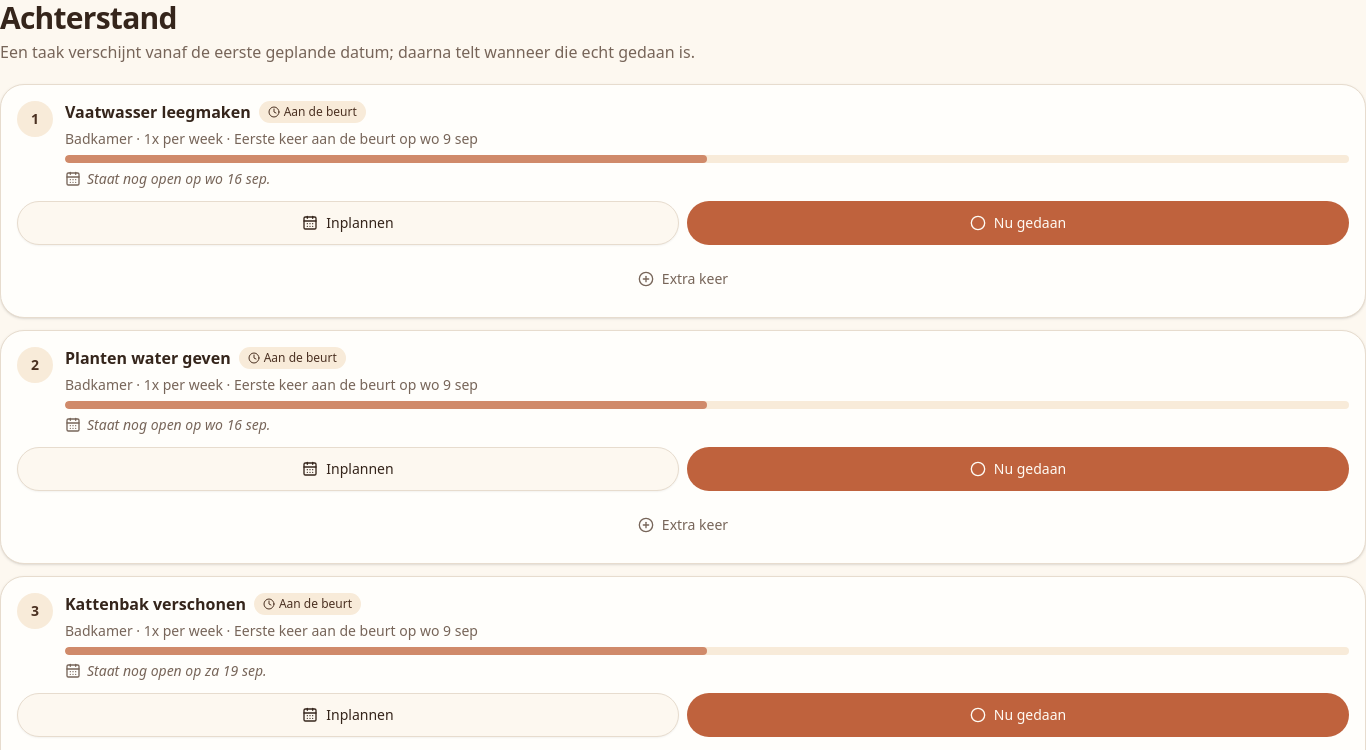
Test case: DuePage › "Nu gedaan" for work that is planned today for someone else › checks it off on behalf of the assignee, who then receives the points
The width and height of the screenshot is (1366, 750).
What coordinates should you click on to do the following:
click the button with aria-label "Vaatwasser leegmaken nu gedaan"
I would click on:
 (1018, 223)
Its box is [687,201,1349,245].
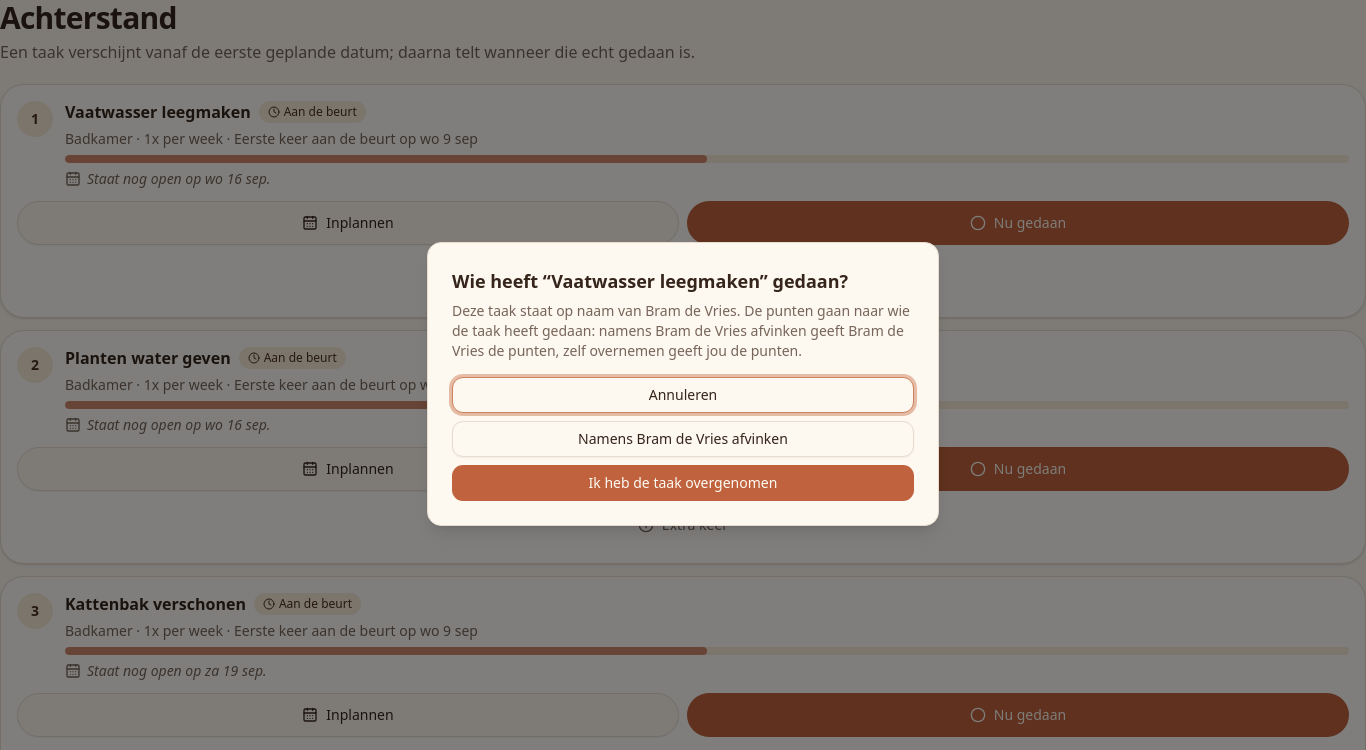
What coordinates should you click on to do the following:
click the button "Namens Bram de Vries afvinken"
I would click on:
 (683, 439)
Its box is [452,421,914,457].
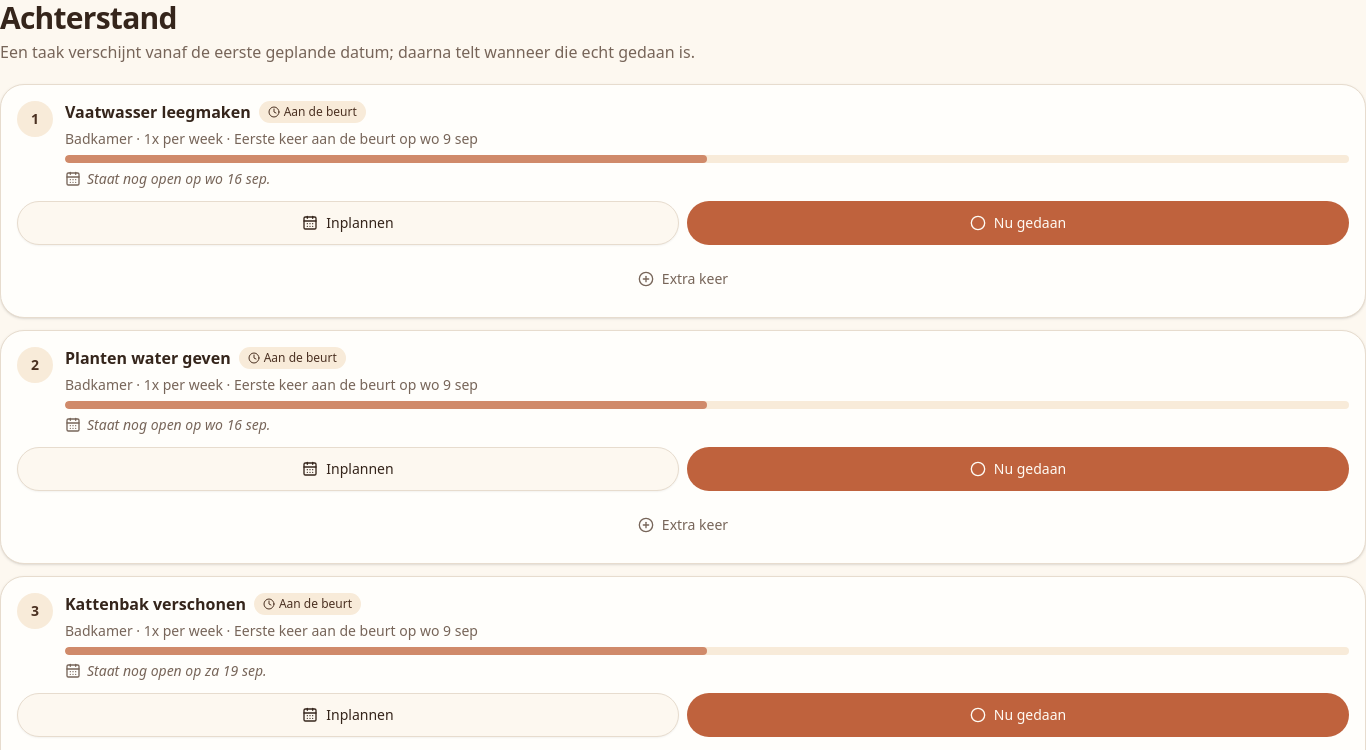
Result: the dialog is gone
